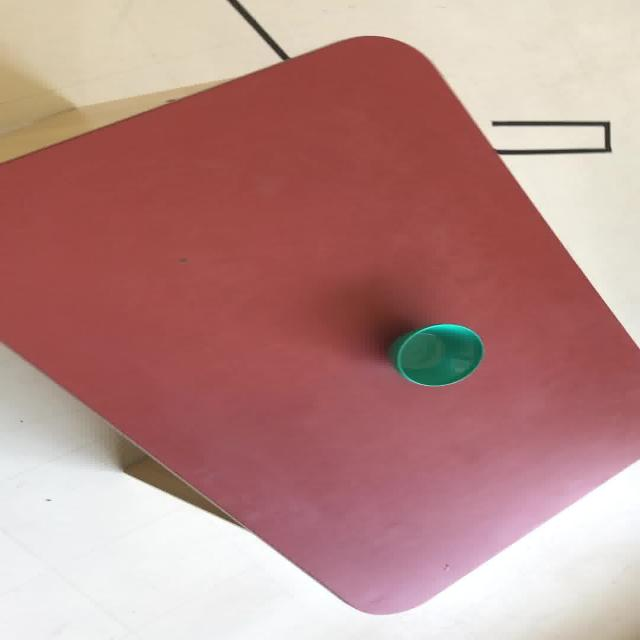bowl: (1, 34, 638, 616), (388, 322, 484, 387)
